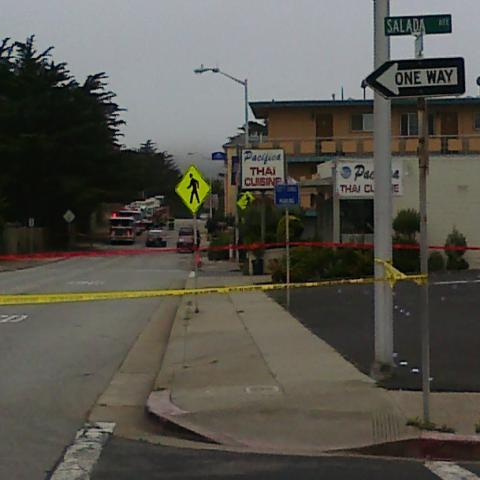car: (177, 227, 201, 248), (145, 230, 168, 247)
truck: (110, 212, 144, 244)
